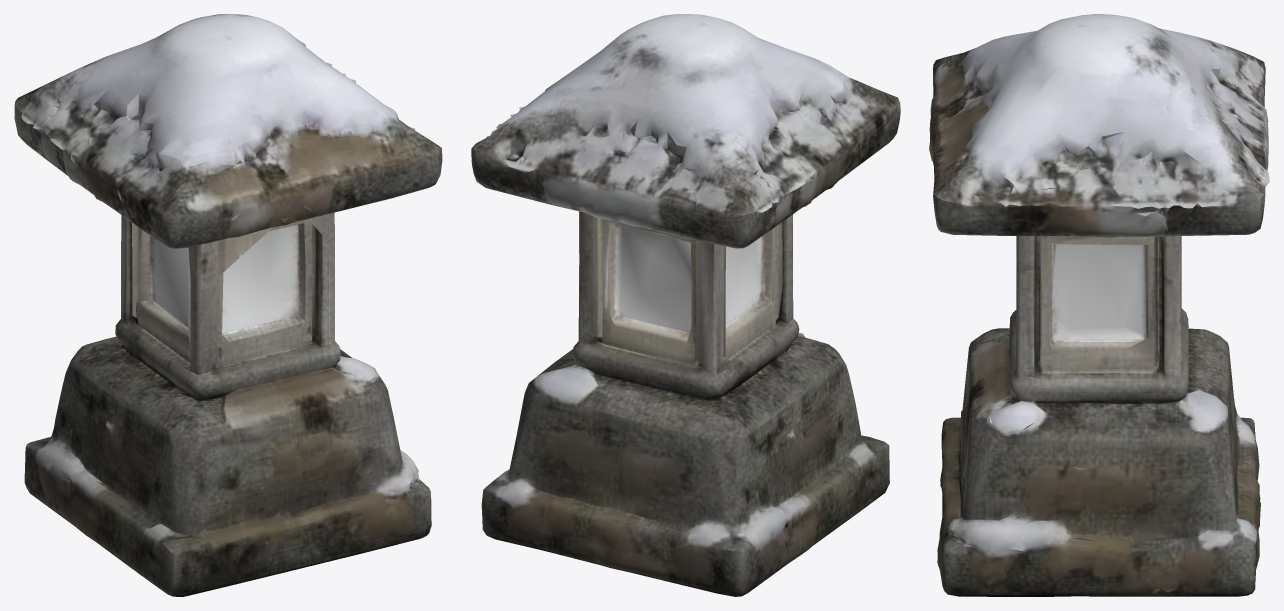
Rendered from toro.glb.
3 views of the same model, side by side, from view 1: azimuth 30°, elevation 25°; view 2: azimuth 150°, elevation 25°; view 3: azimuth 270°, elevation 25° (orthographic). The views are drawn at different scales.
Visible parts, largest first — view 1: toro; view 2: toro; view 3: toro.
Boxes of the visible parts, x1,y1,x2,y2 form: toro: (14,14,442,596); toro: (471,14,900,596); toro: (929,14,1269,596).
Bounding box in the file's own units: 1.06 × 1.7 × 1.04.
1 material, 1 textured.
